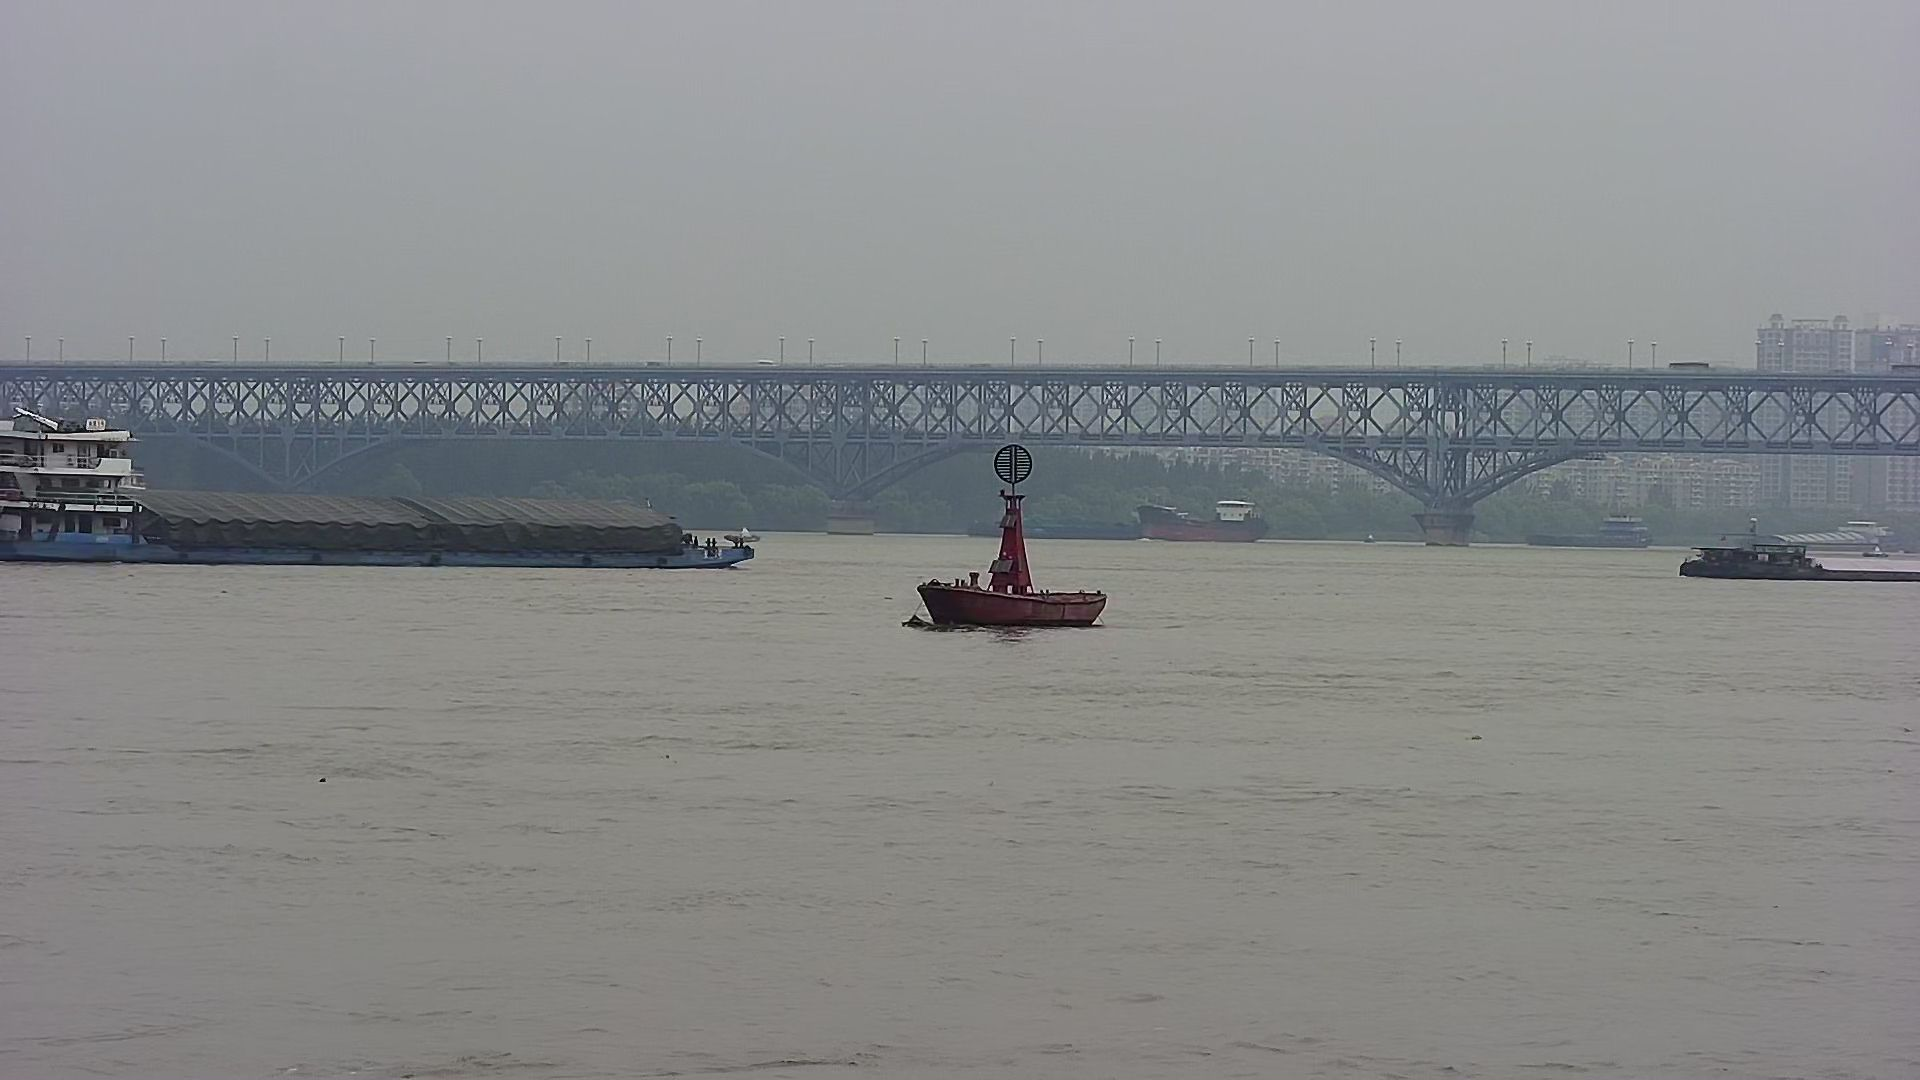boat: (911, 444, 1106, 636)
bridge: (9, 356, 1916, 516)
ship: (3, 410, 756, 568), (1673, 539, 1915, 593), (1139, 496, 1270, 549), (1520, 512, 1658, 549)
